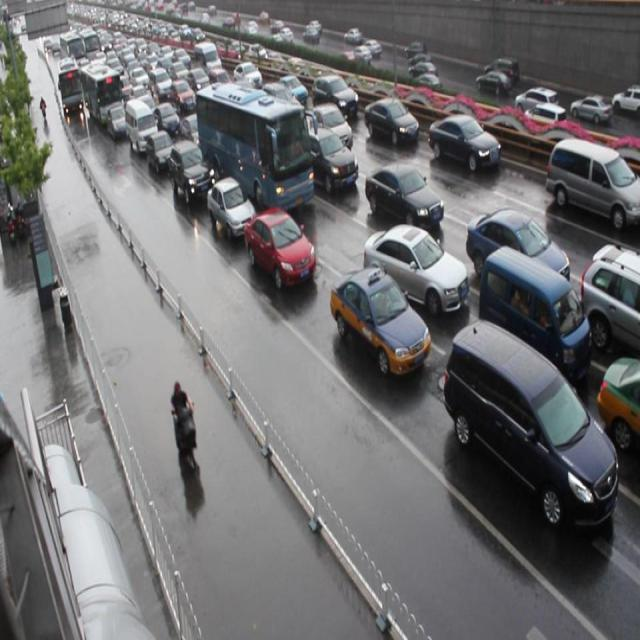car: (329, 268, 429, 378), (363, 227, 467, 319), (465, 212, 568, 294), (579, 245, 640, 354), (243, 210, 316, 291), (363, 167, 443, 230), (427, 118, 500, 181), (596, 359, 640, 456), (307, 129, 357, 197), (206, 179, 256, 242), (363, 98, 417, 147), (169, 144, 213, 203), (312, 75, 358, 121), (309, 103, 352, 151), (146, 134, 174, 178), (277, 74, 307, 107), (180, 119, 207, 155), (154, 106, 180, 142)
truck: (443, 319, 616, 528), (477, 249, 590, 385), (545, 140, 640, 232)
van: (196, 85, 313, 212)
